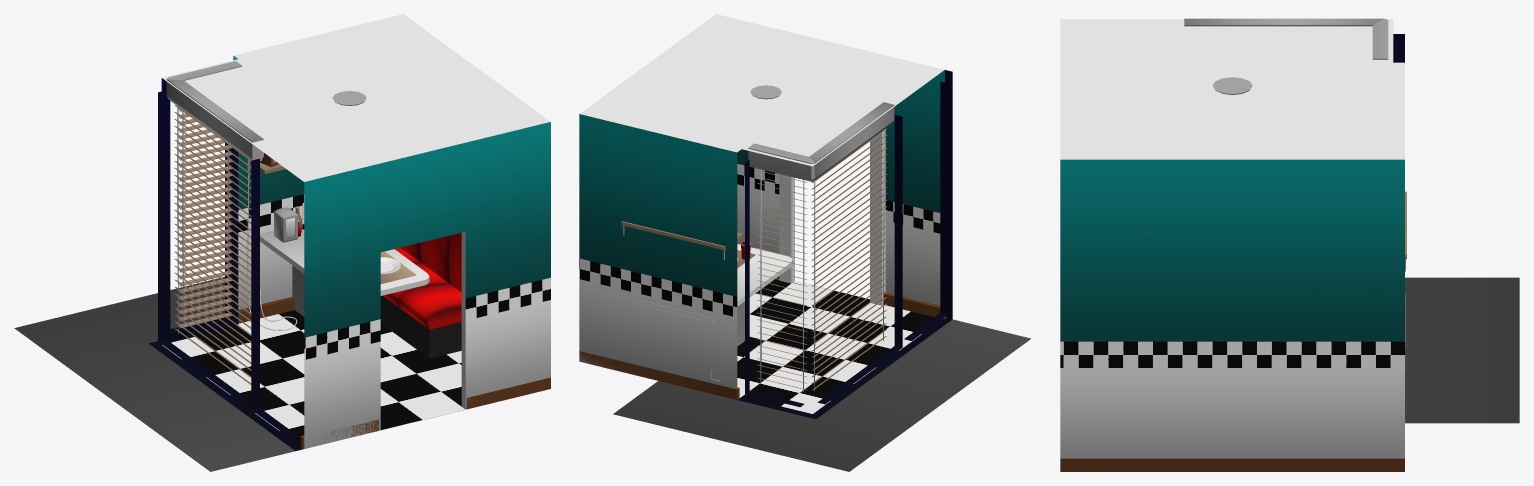
The model's file is Dinner_room_V2.fbx.
The picture shows the model from 3 angles, left to right: view 1: azimuth 30°, elevation 25°; view 2: azimuth 150°, elevation 25°; view 3: azimuth 270°, elevation 25°; orthographic projection. The views are drawn at different scales.
Parts seen in each view (by area): view 1: Wall_up.001, Ceiling.001, Plane.007, Wall_bottom_a.001, Floor.001, Window.001, Plane.010, Plane.009, Wall_center.001, Bench_1.001, Store.001, Bench_0.001 (+5 smaller); view 2: Ceiling.001, Wall_up.001, Plane.007, Wall_bottom_a.001, Floor.001, Window.001, Plane.010, Wall_center.001, Store.001, Doorframe.001, Wall_bottom_b.001, Plane.009 (+3 smaller); view 3: Wall_up.001, Ceiling.001, Wall_bottom_a.001, Plane.007, Wall_center.001, Wall_bottom_b.001, Store.001, Vent.001.
Boxes of the visible parts, bbox=[...] form: Wall_up.001: bbox=[233, 56, 550, 337]; Ceiling.001: bbox=[162, 14, 550, 181]; Plane.007: bbox=[14, 277, 295, 471]; Wall_bottom_a.001: bbox=[238, 217, 550, 448]; Floor.001: bbox=[162, 310, 465, 445]; Window.001: bbox=[148, 78, 302, 450]; Plane.010: bbox=[174, 105, 251, 384]; Plane.009: bbox=[178, 109, 232, 328]; Wall_center.001: bbox=[238, 194, 550, 359]; Bench_1.001: bbox=[383, 232, 461, 329]; Store.001: bbox=[166, 61, 263, 161]; Bench_0.001: bbox=[380, 295, 461, 358]; Ceiling.001: bbox=[580, 14, 944, 166]; Wall_up.001: bbox=[579, 70, 944, 296]; Plane.007: bbox=[613, 319, 1030, 471]; Wall_bottom_a.001: bbox=[579, 184, 940, 389]; Floor.001: bbox=[737, 279, 942, 413]; Window.001: bbox=[738, 70, 952, 419]; Plane.010: bbox=[811, 128, 886, 390]; Wall_center.001: bbox=[579, 163, 940, 317]; Store.001: bbox=[748, 102, 894, 181]; Doorframe.001: bbox=[779, 130, 885, 305]; Wall_bottom_b.001: bbox=[579, 276, 946, 399]; Plane.009: bbox=[757, 170, 807, 389]; Wall_up.001: bbox=[1060, 159, 1404, 341]; Ceiling.001: bbox=[1060, 19, 1404, 159]; Wall_bottom_a.001: bbox=[1060, 368, 1404, 458]; Plane.007: bbox=[1405, 277, 1519, 423]; Wall_center.001: bbox=[1060, 341, 1404, 367]; Wall_bottom_b.001: bbox=[1060, 458, 1404, 471]; Store.001: bbox=[1184, 18, 1388, 59]; Vent.001: bbox=[1212, 77, 1252, 94].
Bounding box in the file's own units: 4.01 × 3.02 × 4.
